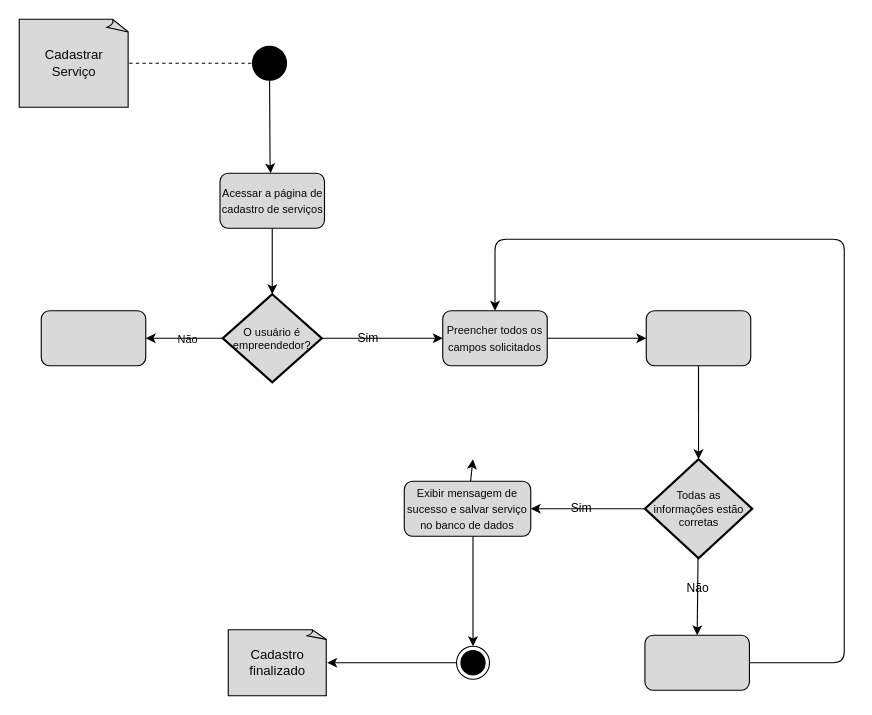
Some shapes in this 872 by 715 pixel diagram are drawn without their labels. The centre of each missing label's shape, as x and y in pixels:
Clicar no botão salvar: the point at 698,338
Exibir mensagem de erro: the point at 696,662
Redirecionar para a página inicial do sistema: the point at 93,338
